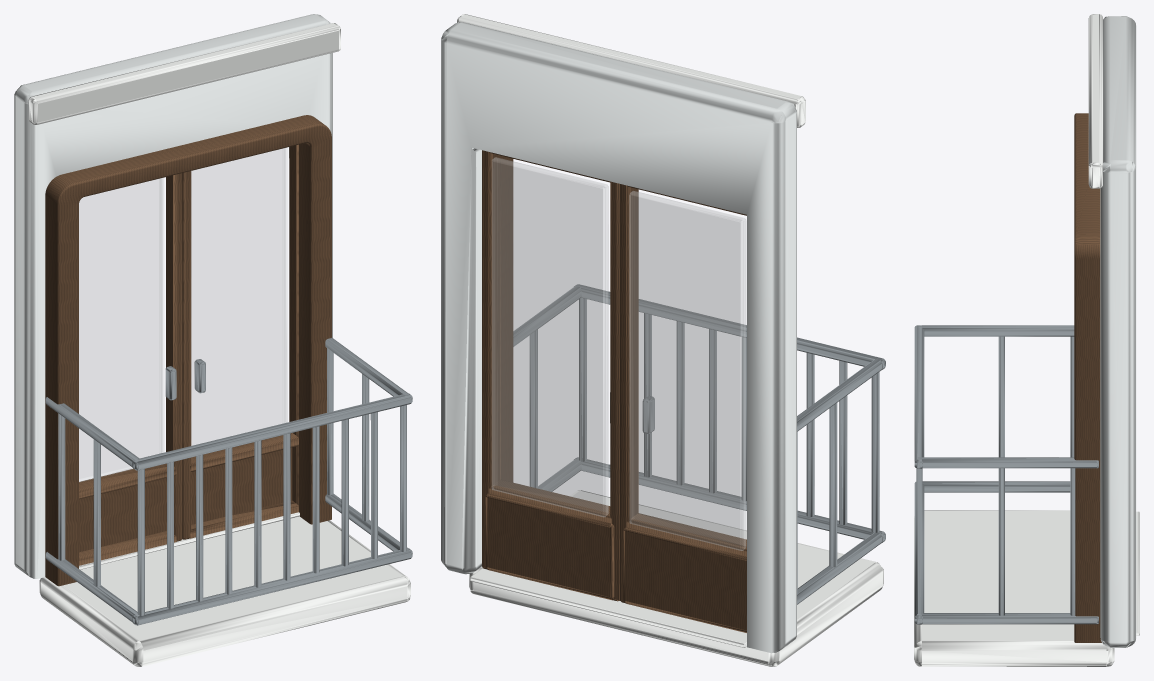
File: Balcony.glb
3 renders of one model, left to right at view 1: azimuth 30°, elevation 25°; view 2: azimuth 150°, elevation 25°; view 3: azimuth 270°, elevation 25°, orthographic. The views are drawn at different scales.
Parts seen in each view (by area): view 1: PBK_substrate.001, PBK_Continuous_Frame_Modern_Balcony.001, PBK_balcony_door_glass.002, PBK_balcony_slab.001, PBK_balcony_door_glass.001, PBK_floor_band.001, PBK_door_stile.009, PBK_door_kick_panel.002, PBK_door_kick_panel.001, PBK_door_stile.010, PBK_front_rail.004, PBK_front_rail.001 (+24 smaller); view 2: PBK_substrate.001, PBK_balcony_door_glass.001, PBK_balcony_door_glass.002, PBK_balcony_slab.001, PBK_door_kick_panel.002, PBK_door_kick_panel.001, PBK_door_stile.011, PBK_door_stile.009, PBK_door_threshold.002, PBK_Continuous_Frame_Modern_Balcony.001, PBK_door_stile.010, PBK_floor_band.001 (+17 smaller); view 3: PBK_substrate.001, PBK_balcony_slab.001, PBK_Continuous_Frame_Modern_Balcony.001, PBK_floor_band.001, PBK_side_rail.007, PBK_side_rail.005, PBK_side_rail.006, PBK_side_rail.004, PBK_front_rail.004, PBK_side_baluster.007, PBK_baluster.019, PBK_side_baluster.006 (+4 smaller).
Part boxes in pixels (x1,y1,x2,y2): PBK_substrate.001: (14,14,332,578); PBK_Continuous_Frame_Modern_Balcony.001: (45,115,331,586); PBK_balcony_door_glass.002: (191,147,287,445); PBK_balcony_slab.001: (39,516,410,666); PBK_balcony_door_glass.001: (79,178,163,482); PBK_floor_band.001: (28,23,340,124); PBK_door_stile.009: (166,173,182,541); PBK_door_kick_panel.002: (191,447,292,524); PBK_door_kick_panel.001: (79,478,166,552); PBK_door_stile.010: (182,171,191,539); PBK_front_rail.004: (132,393,412,470); PBK_front_rail.001: (132,548,412,625); PBK_substrate.001: (441,22,796,653); PBK_balcony_door_glass.001: (629,191,745,550); PBK_balcony_door_glass.002: (492,157,608,516); PBK_balcony_slab.001: (469,490,883,666); PBK_door_kick_panel.002: (485,493,614,599); PBK_door_kick_panel.001: (623,527,746,632); PBK_door_stile.011: (482,150,500,569); PBK_door_stile.009: (620,184,638,603); PBK_door_threshold.002: (470,568,746,647); PBK_Continuous_Frame_Modern_Balcony.001: (501,156,513,482); PBK_door_stile.010: (610,182,620,601); PBK_floor_band.001: (457,14,805,127); PBK_substrate.001: (1100,16,1136,647); PBK_balcony_slab.001: (914,510,1114,666); PBK_Continuous_Frame_Modern_Balcony.001: (1074,113,1101,642); PBK_floor_band.001: (1088,14,1102,188); PBK_side_rail.007: (916,457,1098,468); PBK_side_rail.005: (918,613,1098,624); PBK_side_rail.006: (918,325,1074,336); PBK_side_rail.004: (922,481,1070,492); PBK_front_rail.004: (914,325,924,468); PBK_side_baluster.007: (998,468,1004,615); PBK_baluster.019: (916,468,922,613); PBK_side_baluster.006: (1070,468,1075,615).
Bounding box in the file's own units: 2 × 3.16 × 1.26.
Materials: 6 (2 with a texture image).
